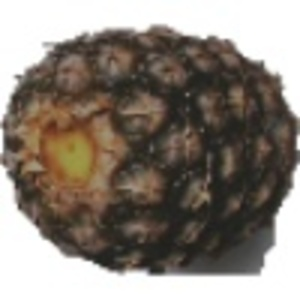abacaxi: (1, 13, 295, 275)
